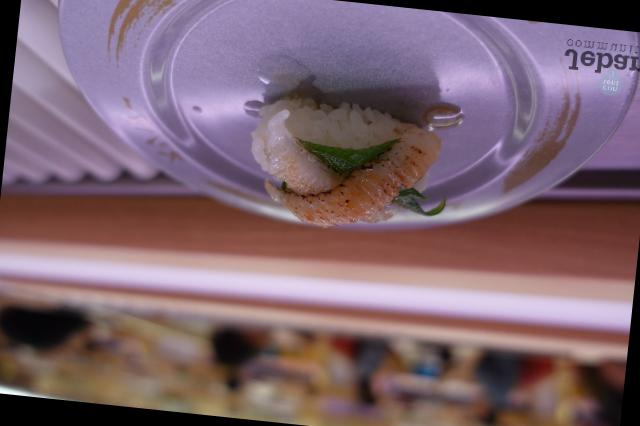janwhite: (70, 0, 640, 267)
